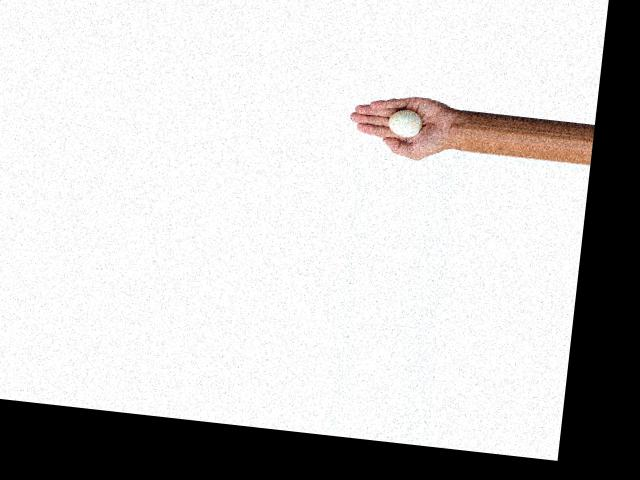egg: (385, 108, 422, 137)
